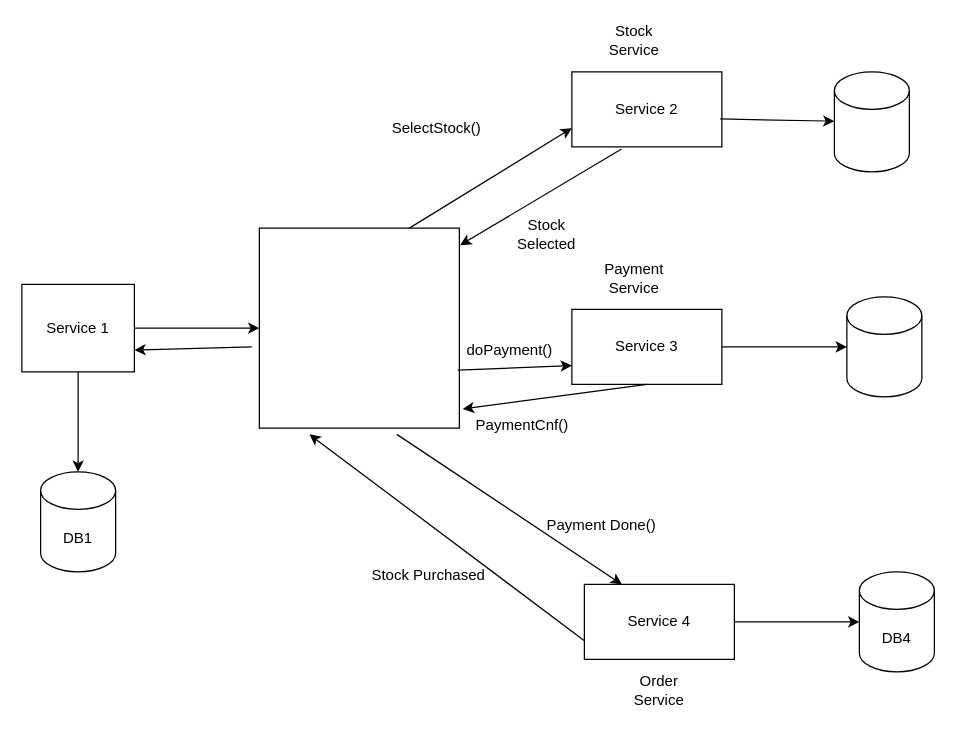
Image size: 956x730. Some labels were removed from this diagram. Here are the shapes that lost their labels. From the top down, the centre of each, then its label:
the point at 871,121: DB2
the point at 358,327: Orchestrator
the point at 884,346: DB3
